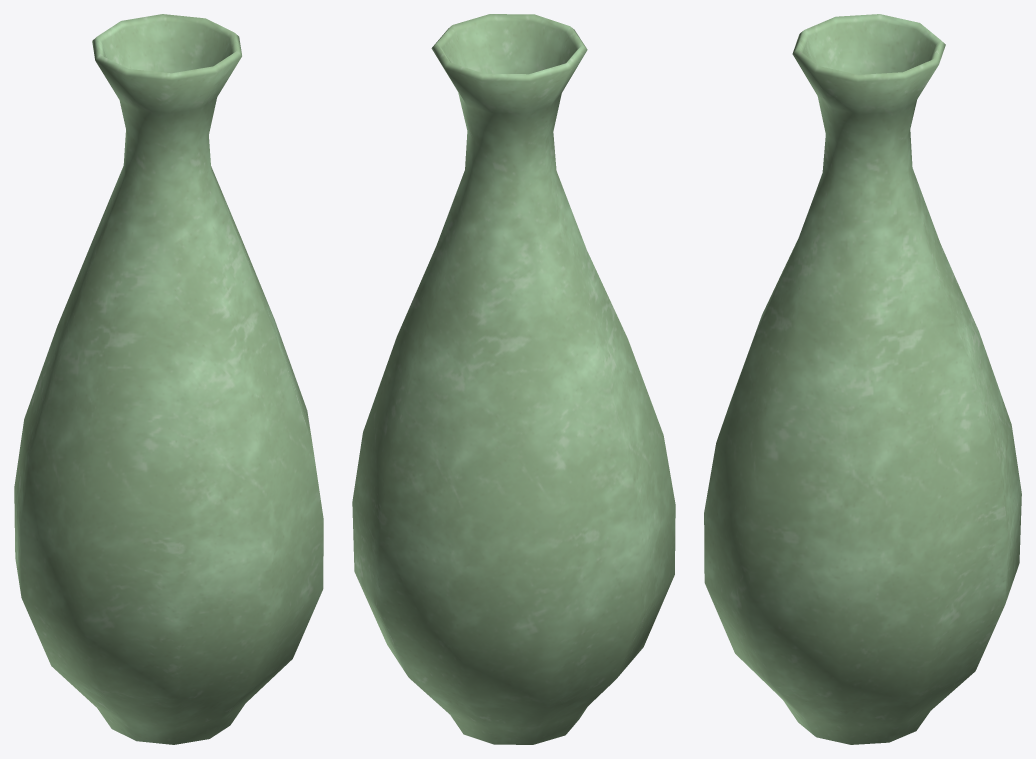
Rendered from mt_dj_ciping_01.fbx.
The picture shows the model from 3 angles, left to right: view 1: azimuth 30°, elevation 25°; view 2: azimuth 150°, elevation 25°; view 3: azimuth 270°, elevation 25°; orthographic projection.
Parts seen in each view (by area): view 1: mt_dj_ciping_01; view 2: mt_dj_ciping_01; view 3: mt_dj_ciping_01.
Boxes of the visible parts, x1,y1,x2,y2 form: mt_dj_ciping_01: (14, 14, 323, 744); mt_dj_ciping_01: (352, 14, 675, 744); mt_dj_ciping_01: (704, 14, 1021, 744).
Bounding box in the file's own units: 17.36 × 17.36 × 40.77.
